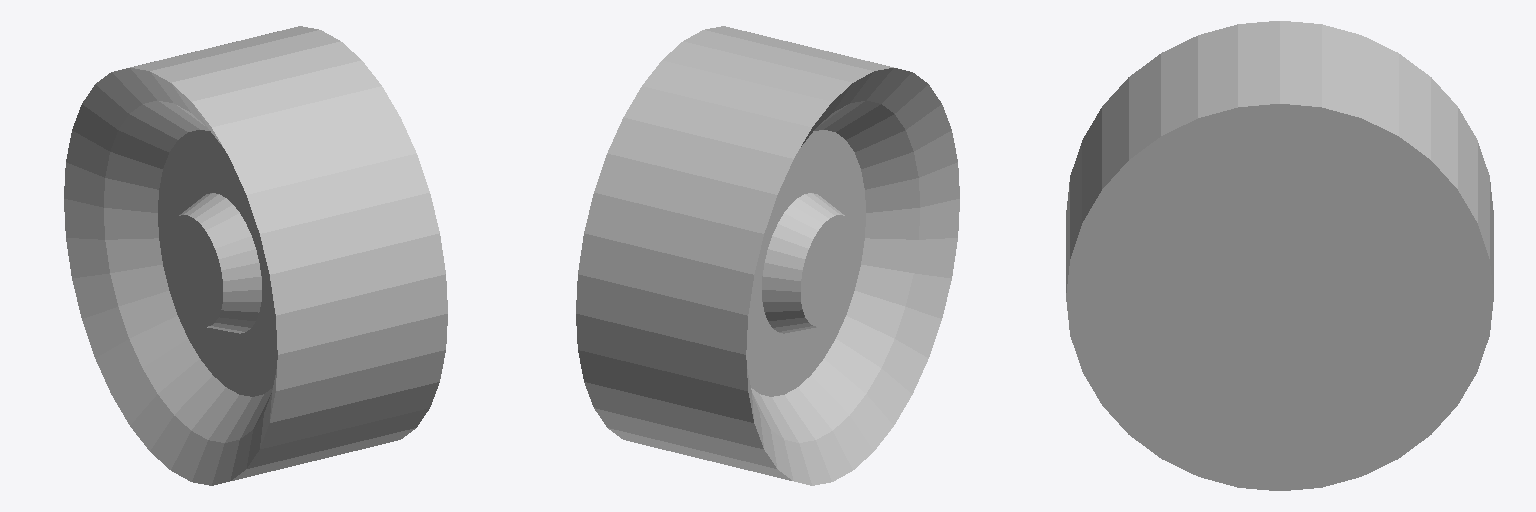
File: planeHubcaps.obj
3 views of the same model, side by side, from view 1: azimuth 30°, elevation 25°; view 2: azimuth 150°, elevation 25°; view 3: azimuth 270°, elevation 25° (orthographic).
Visible parts, largest first — view 1: Cylinder.072_Cylinder.062; view 2: Cylinder.072_Cylinder.062; view 3: Cylinder.072_Cylinder.062.
Part boxes in pixels (bbox=[...]): Cylinder.072_Cylinder.062: bbox=[64, 26, 447, 485]; Cylinder.072_Cylinder.062: bbox=[576, 26, 959, 485]; Cylinder.072_Cylinder.062: bbox=[1066, 21, 1493, 490].
Bounding box in the file's own units: 38.92 × 84.64 × 84.64.